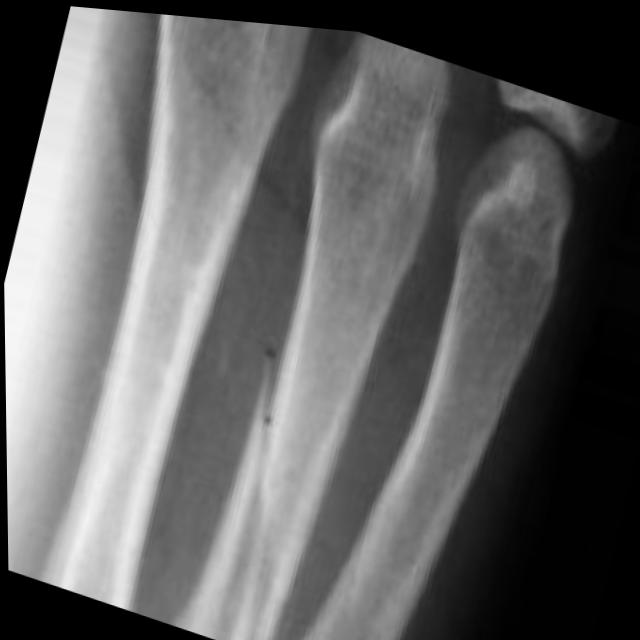fracture: (182, 316, 345, 636)
